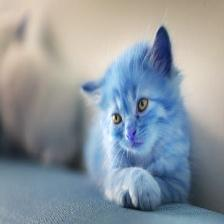kedo: (80, 24, 192, 212)
